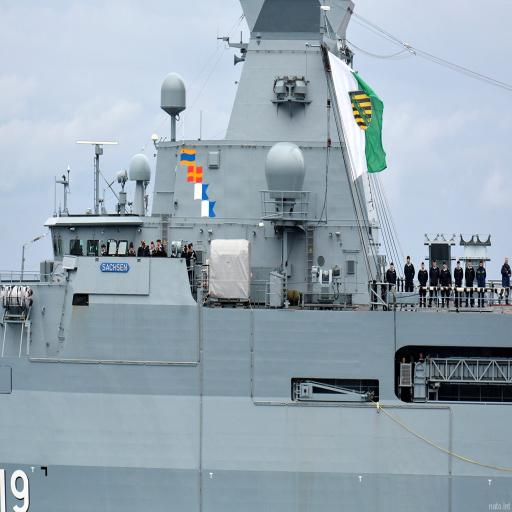Fragata: (1, 20, 359, 497)
